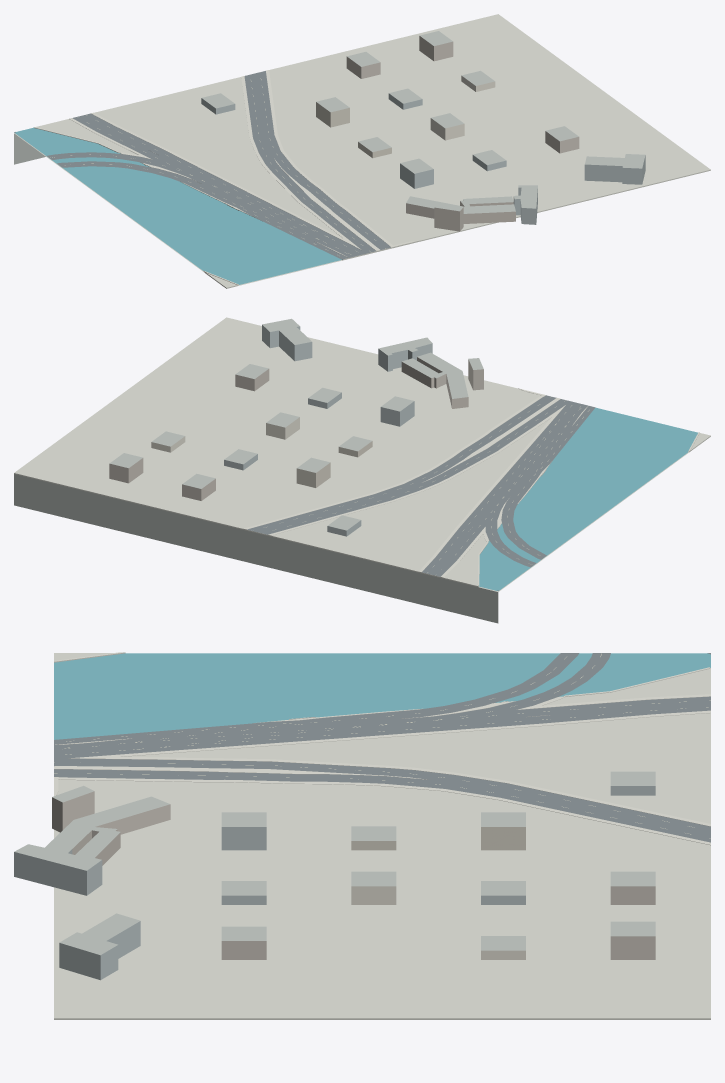
3 renders of one model, top to bottom at view 1: azimuth 30°, elevation 25°; view 2: azimuth 150°, elevation 25°; view 3: azimuth 270°, elevation 25°, orthographic. The views are drawn at different scales.
Parts seen in each view (by area): view 1: city; view 2: city; view 3: city.
Boxes of the visible parts, x1,y1,x2,y2 form: city: (14, 14, 710, 288); city: (14, 317, 710, 623); city: (14, 652, 710, 1019).
Bounding box in the file's own units: 500 × 52 × 403.
